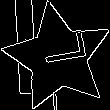L_W: (30, 38, 86, 77)
